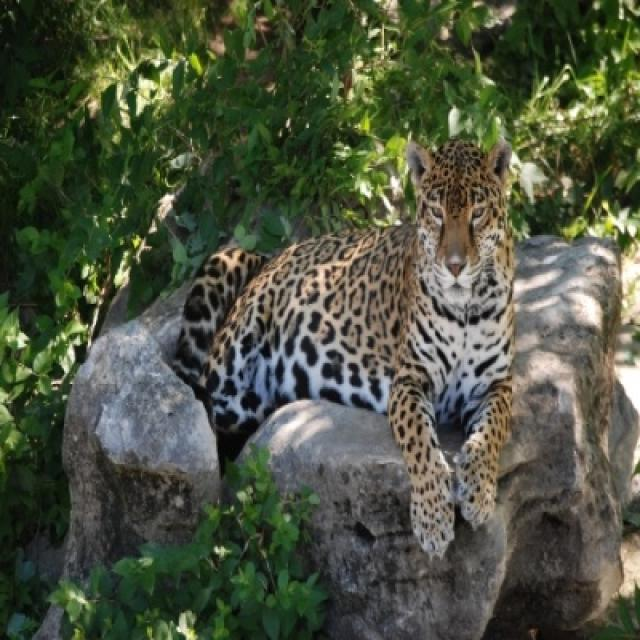Jaguar: (160, 138, 522, 563)
